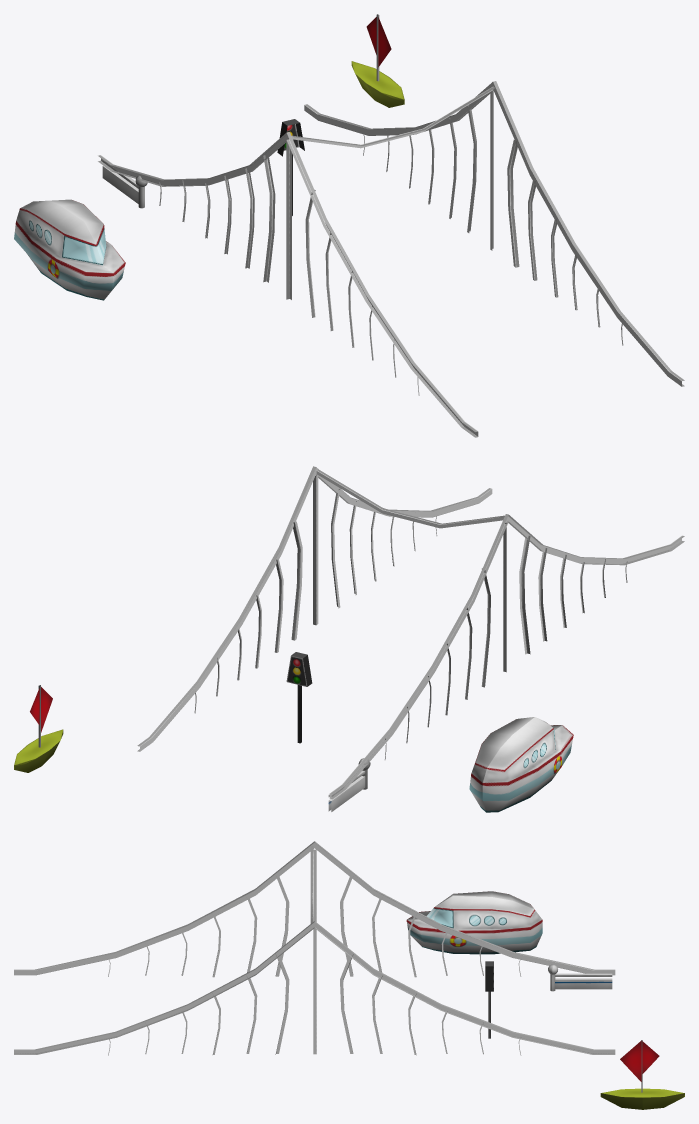
The model's file is Map4.fbx.
The picture shows the model from 3 angles, top to bottom: view 1: azimuth 30°, elevation 25°; view 2: azimuth 150°, elevation 25°; view 3: azimuth 270°, elevation 25°; orthographic projection. The views are drawn at different scales.
Parts seen in each view (by area): view 1: Cau, Thuyento, Thuyen_be, TUong; view 2: Cau, Thuyento, Thuyen_be, Cot_den, TUong; view 3: Cau, Thuyento, Thuyen_be, TUong.
Part boxes in pixels (left/top/right/bottom): Cau: left=98, top=81, right=684, bottom=437; Thuyento: left=14, top=199, right=125, bottom=300; Thuyen_be: left=351, top=14, right=404, bottom=107; TUong: left=102, top=160, right=138, bottom=203; Cau: left=137, top=466, right=684, bottom=799; Thuyento: left=469, top=717, right=573, bottom=812; Thuyen_be: left=14, top=685, right=63, bottom=772; Cot_den: left=286, top=652, right=312, bottom=743; TUong: left=328, top=770, right=365, bottom=811; Cau: left=14, top=841, right=615, bottom=1055; Thuyento: left=406, top=891, right=542, bottom=954; Thuyen_be: left=600, top=1040, right=684, bottom=1109; TUong: left=555, top=973, right=612, bottom=989.
Bounding box in the file's own units: 162 × 65.77 × 261.
